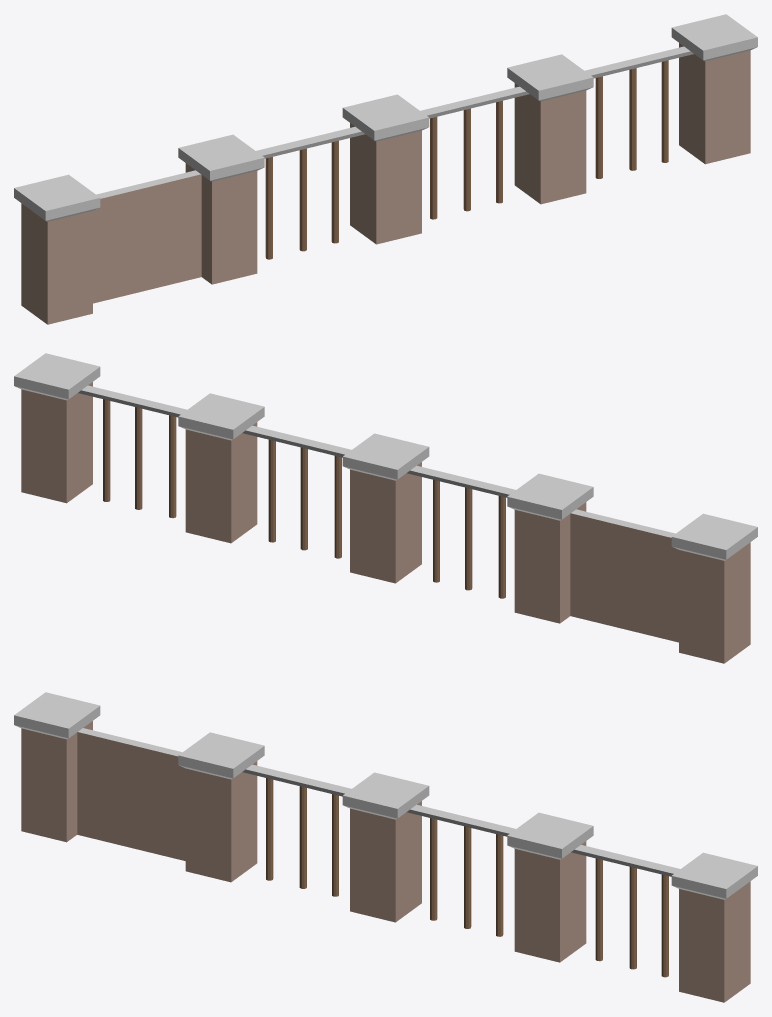
File: Muro.dae
3 renders of one model, top to bottom at view 1: azimuth 30°, elevation 25°; view 2: azimuth 150°, elevation 25°; view 3: azimuth 330°, elevation 25°, orthographic.
Visible parts, largest first — view 1: Cilindro; view 2: Cilindro; view 3: Cilindro.
Part boxes in pixels (x1,y1,x2,y2): Cilindro: (14,14,757,324); Cilindro: (14,353,757,663); Cilindro: (14,692,757,1002).
Bounding box in the file's own units: 31.36 × 2.41 × 4.92.
